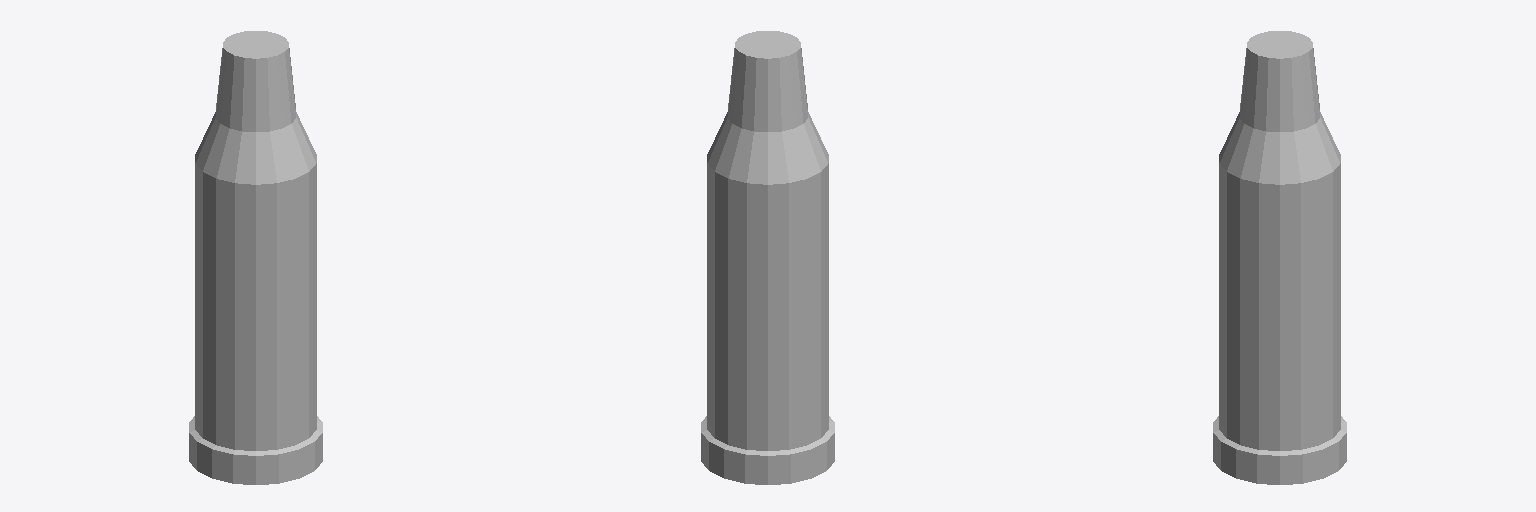
File: RifleCase.obj
3 views of the same model, side by side, from view 1: azimuth 30°, elevation 25°; view 2: azimuth 150°, elevation 25°; view 3: azimuth 270°, elevation 25° (orthographic).
Visible parts, largest first — view 1: RifleCase; view 2: RifleCase; view 3: RifleCase.
Part boxes in pixels (bbox=[...]): RifleCase: bbox=[189, 31, 322, 484]; RifleCase: bbox=[701, 31, 834, 484]; RifleCase: bbox=[1213, 31, 1346, 484].
Bounding box in the file's own units: 3.49 × 12 × 3.44.